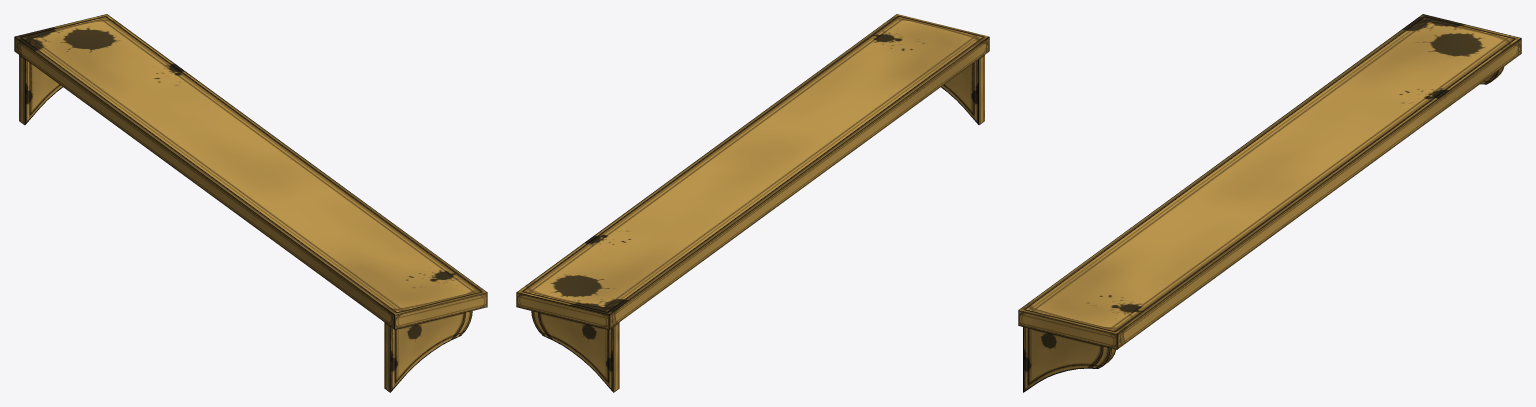
The model's file is shelf.fbx.
3 renders of one model, left to right at view 1: azimuth 30°, elevation 25°; view 2: azimuth 150°, elevation 25°; view 3: azimuth 330°, elevation 25°, orthographic. The views are drawn at different scales.
Parts seen in each view (by area): view 1: Plane, Plane.001, Plane.002; view 2: Plane, Plane.002, Plane.001; view 3: Plane, Plane.001.
Boxes of the visible parts, bbox=[...] form: Plane: bbox=[14, 14, 487, 329]; Plane.001: bbox=[384, 311, 472, 392]; Plane.002: bbox=[19, 55, 62, 124]; Plane: bbox=[516, 14, 989, 329]; Plane.002: bbox=[531, 311, 619, 392]; Plane.001: bbox=[941, 55, 984, 124]; Plane: bbox=[1018, 14, 1521, 349]; Plane.001: bbox=[1023, 327, 1115, 392].
Size of the model in its own units: 62.41 by 52.19 by 443.
